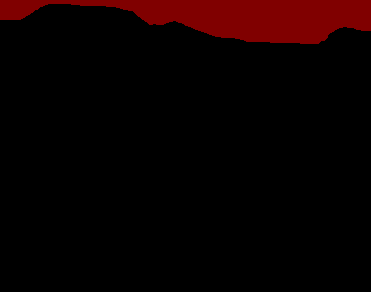Sky: (1, 1, 370, 44)
